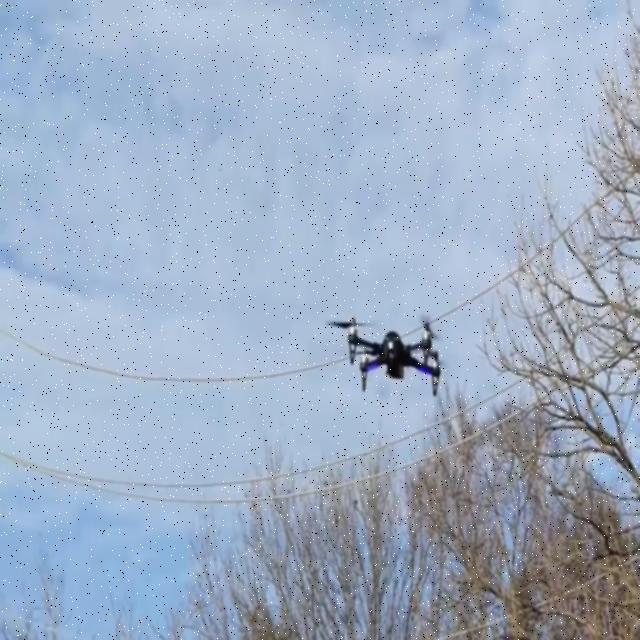UAV: (326, 315, 446, 398)
